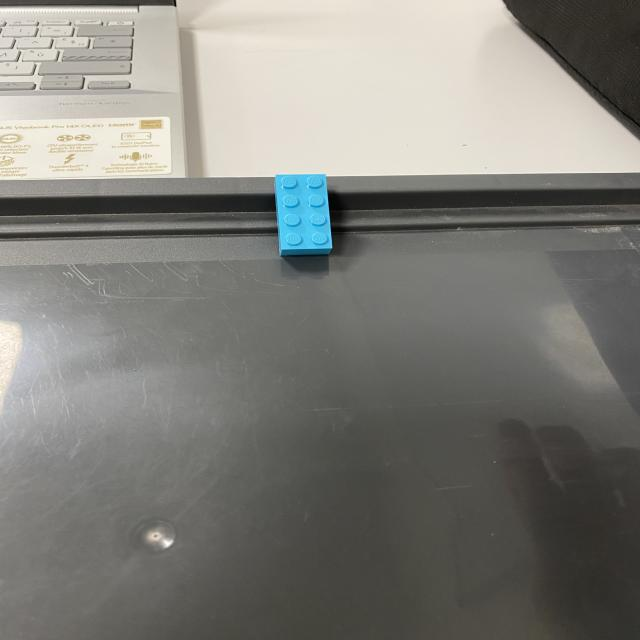C4x2x1: (272, 173, 334, 256)
